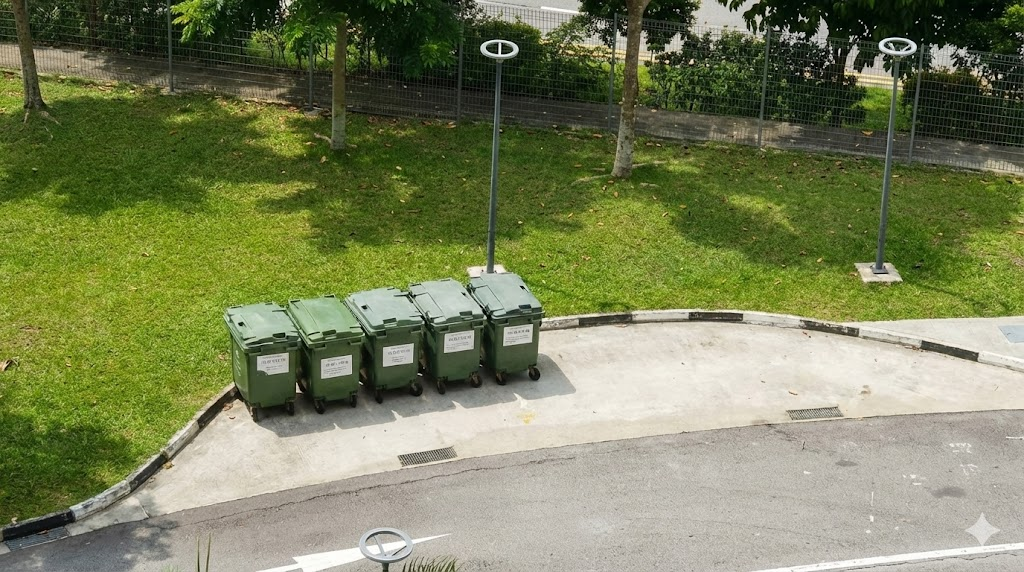bin_empty: (344, 287, 424, 402), (286, 295, 363, 412), (409, 278, 486, 393), (225, 302, 299, 419), (467, 273, 543, 384)
